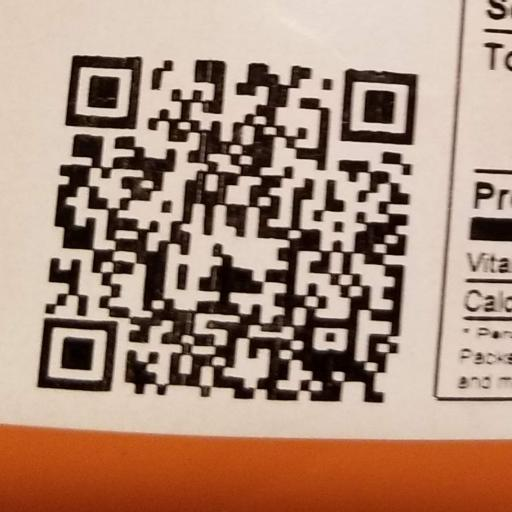qr_code: (35, 55, 419, 403)
